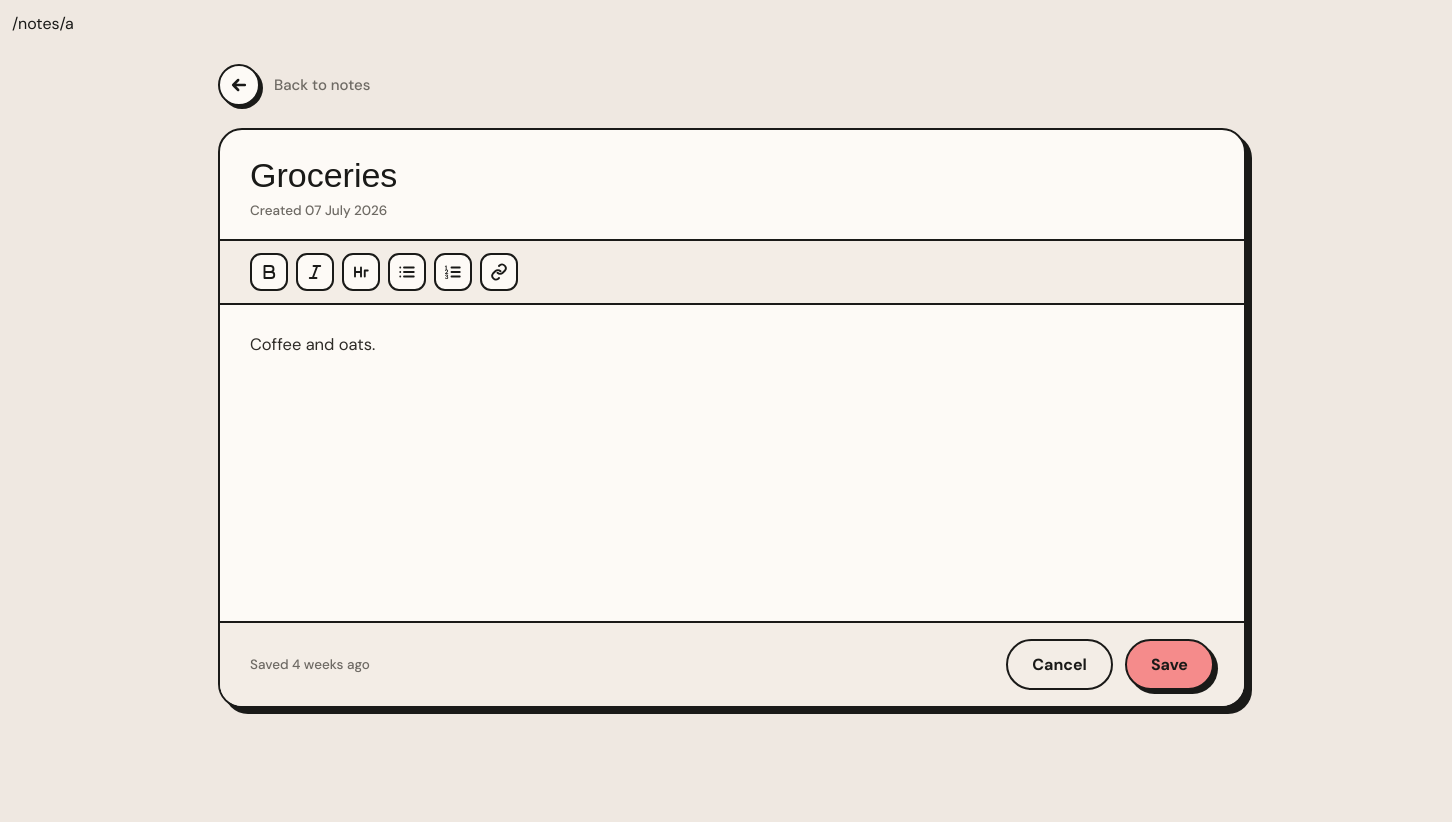
Scenario: NoteEditorPage › tracking unsaved work › goes quiet again once the save lands
The width and height of the screenshot is (1452, 822).
Type "!" into the field named "Note title" at x=732, y=176, box [250,156,1214,195]
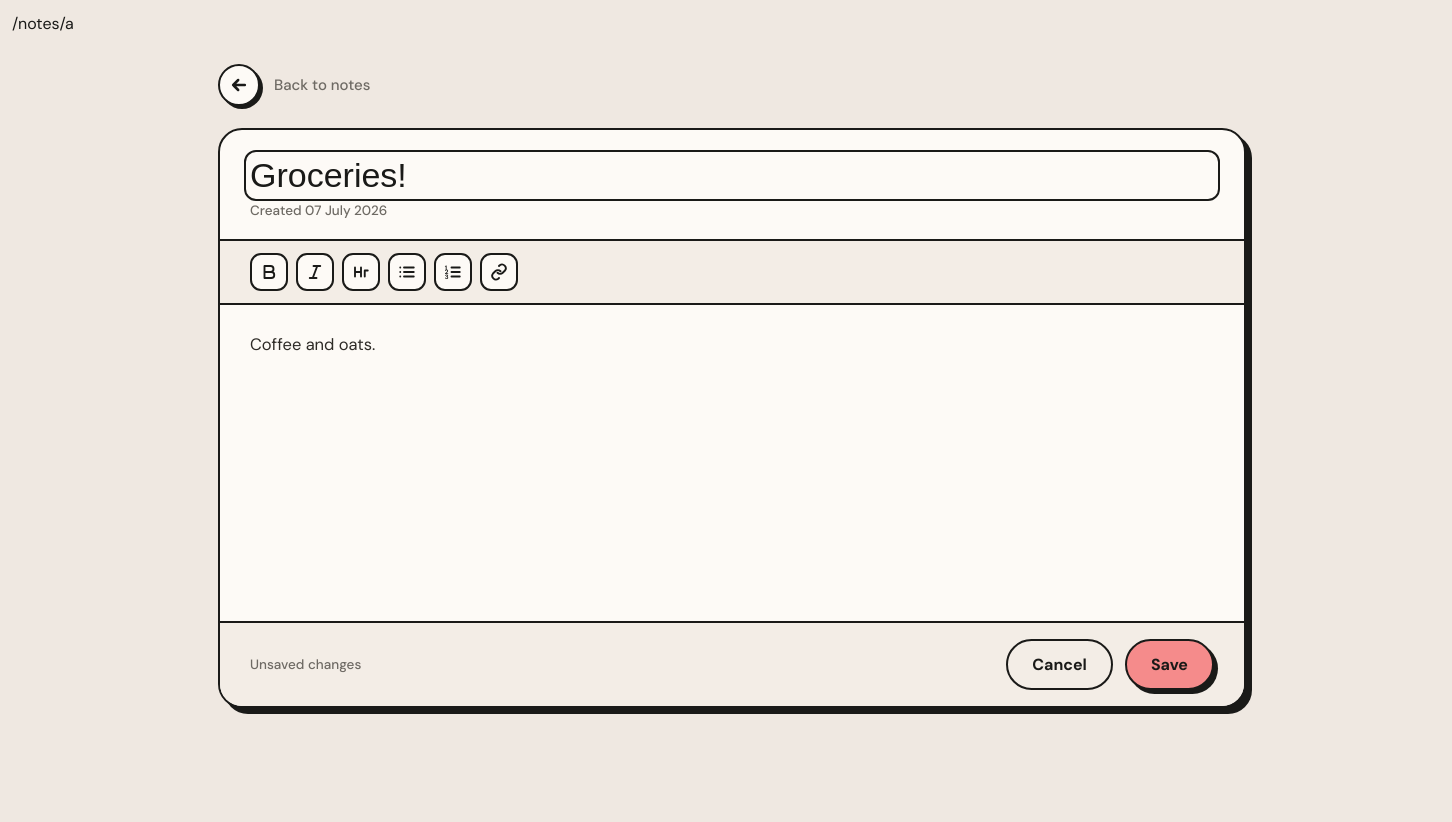
Click the button "Save" at x=1169, y=665, box [1125,639,1214,690]
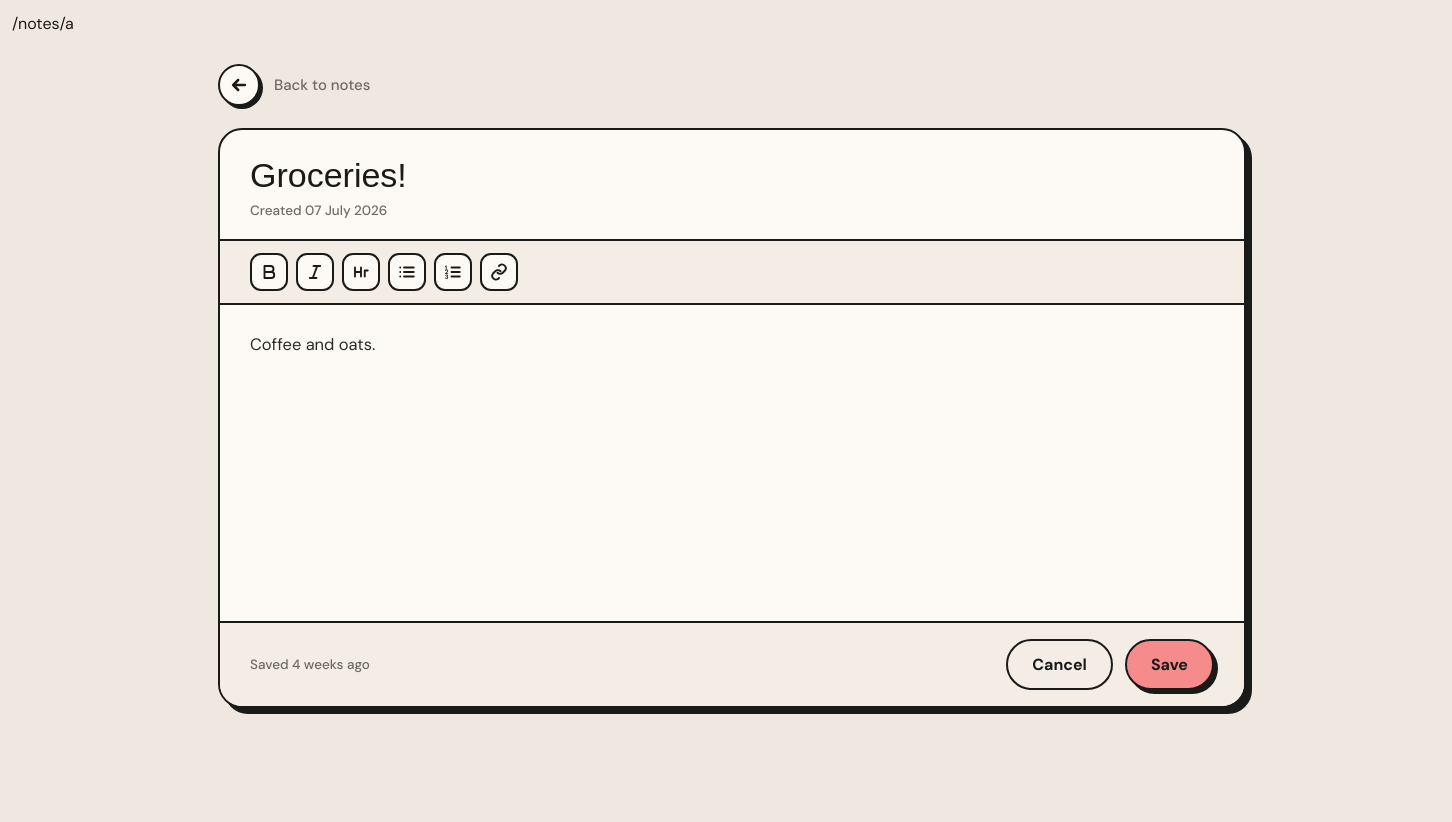
Expected: the text "Saved " is shown, [250,656,370,673]
Expected: the text "Unsaved changes" is gone
